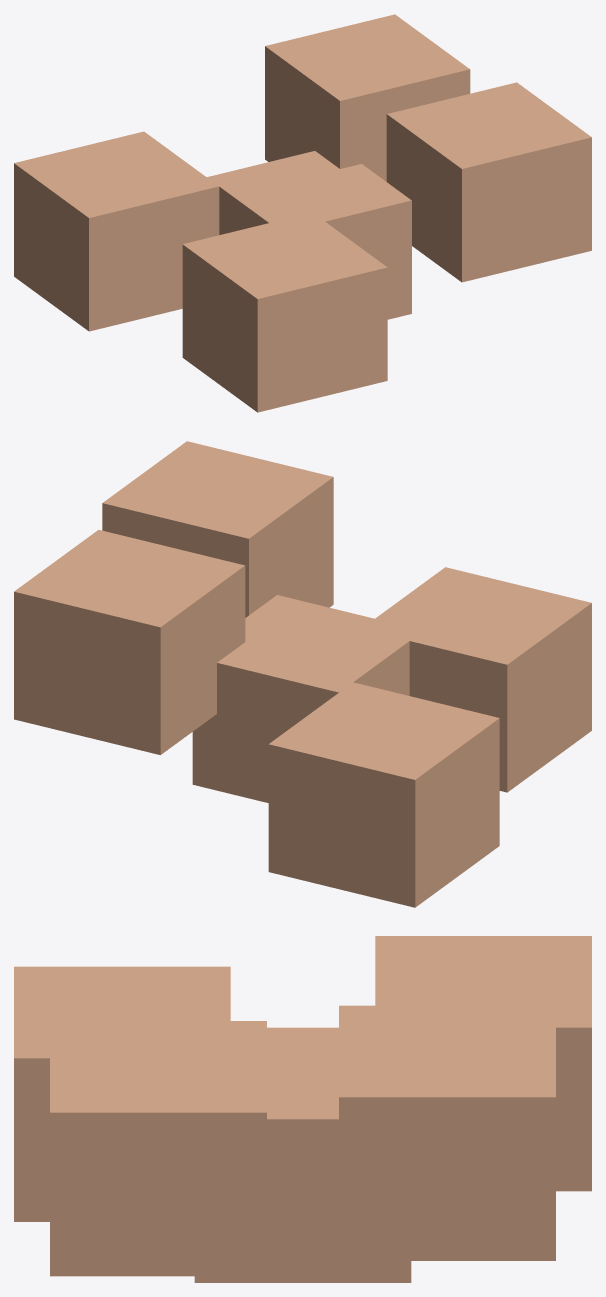
The model's file is product_diced_fish.glb.
The picture shows the model from 3 angles, top to bottom: view 1: azimuth 30°, elevation 25°; view 2: azimuth 150°, elevation 25°; view 3: azimuth 270°, elevation 25°; orthographic projection. The views are drawn at different scales.
Parts seen in each view (by area): view 1: product.diced_fish; view 2: product.diced_fish; view 3: product.diced_fish.
Boxes of the visible parts, x1,y1,x2,y2 form: product.diced_fish: (14,14,591,412); product.diced_fish: (14,441,591,907); product.diced_fish: (14,936,591,1282).
Size of the model in its own units: 0.24 by 0.1067 by 0.2133.
